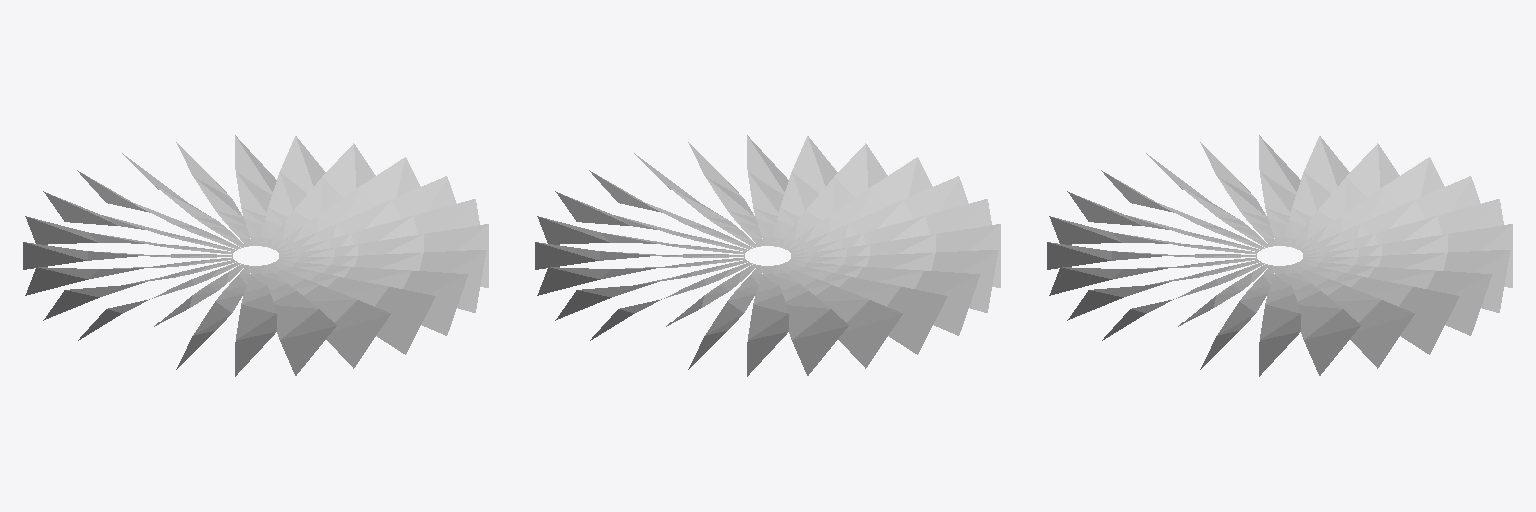
Rendered from creature_part_fan.obj.
3 renders of one model, left to right at view 1: azimuth 30°, elevation 25°; view 2: azimuth 150°, elevation 25°; view 3: azimuth 270°, elevation 25°, orthographic.
Visible parts, largest first — view 1: Plane; view 2: Plane; view 3: Plane.
Boxes of the visible parts, <box> form: Plane: <box>23,135,488,376</box>; Plane: <box>535,135,1000,376</box>; Plane: <box>1047,135,1512,376</box>.
Bounding box in the file's own units: 20 × 2.19 × 20.